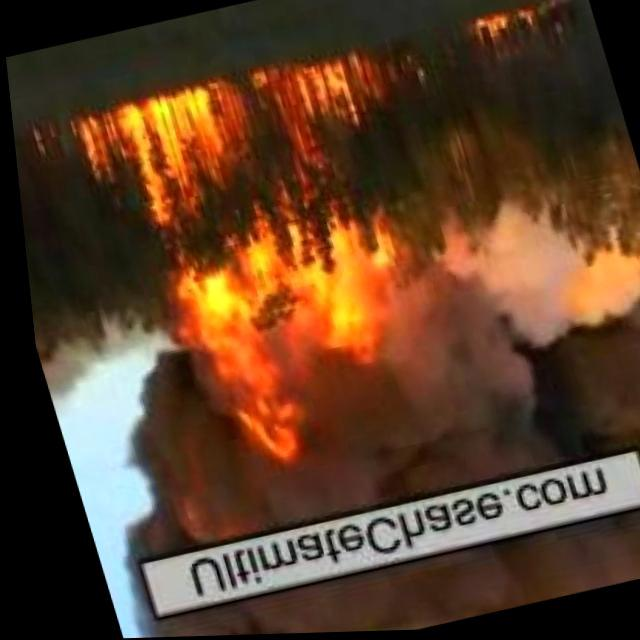fire: (42, 44, 458, 260), (166, 204, 464, 478), (460, 3, 564, 65)
